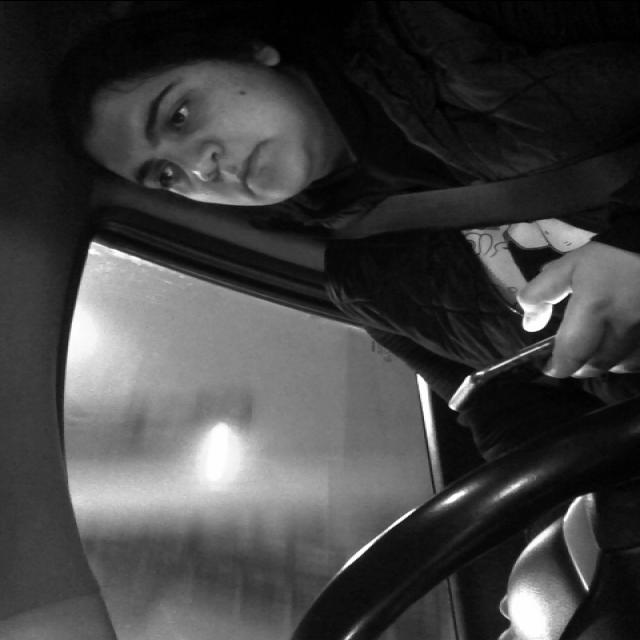mobile use: (439, 339, 608, 414)
